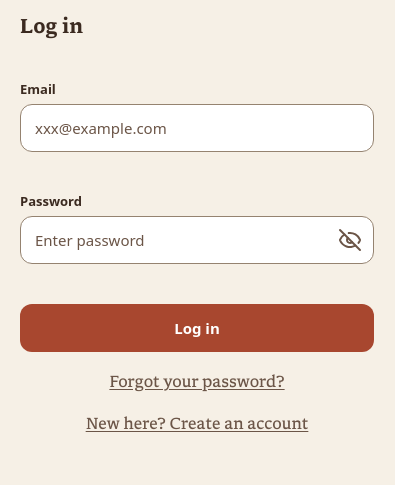
Test: LogIn › says the email or password is wrong without saying which
Type "ana@example.com" into the field labelled "Email".
click(197, 128); type("ana@example.com")  # box [20, 104, 374, 152]
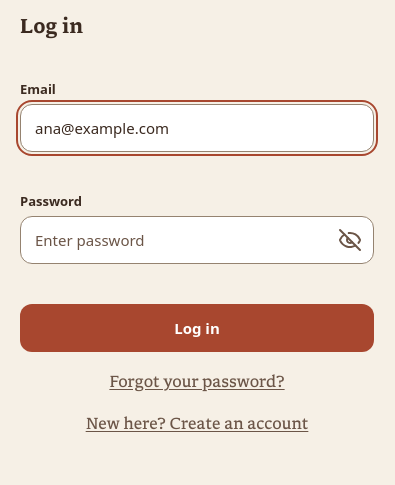
Type "wrong-password" into the password field labelled "Password".
click(197, 240); type("wrong-password")  # box [20, 216, 374, 264]
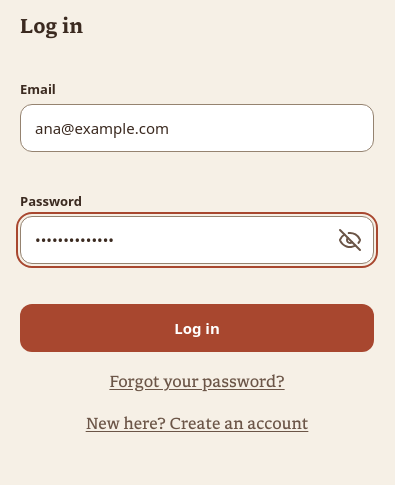
Click the button "Log in".
click(197, 328)  # box [20, 304, 374, 352]
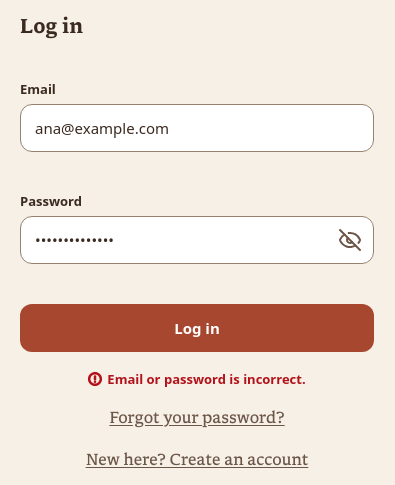
Check: the message reads "Email or password is incorrect.", box [107, 370, 306, 388]
